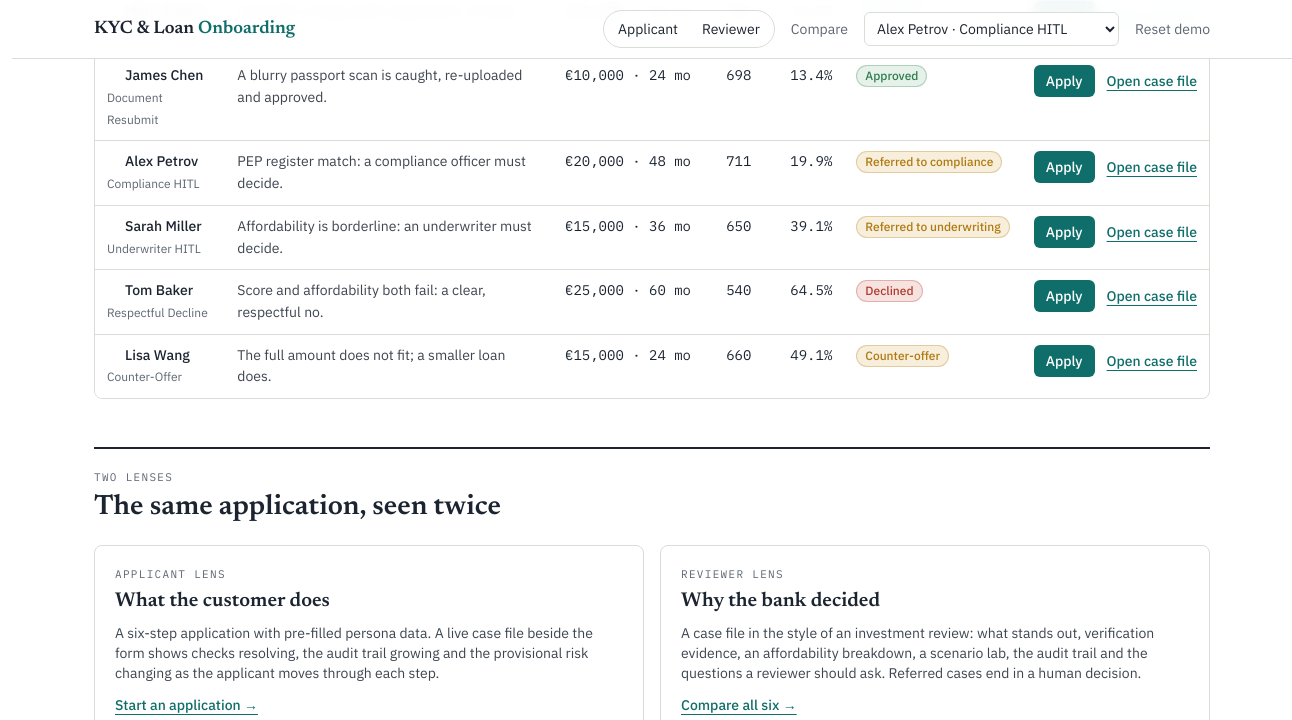
it: Home › "Apply as" sets the persona and starts the wizard
This screenshot has width=1292, height=720.
(page scrolled)
What coordinates should you click on to do the following:
click the button with aria-label "Apply as Lisa Wang"
I would click on:
 (1064, 361)
Its box is [1034, 345, 1095, 377].
(page scrolled)
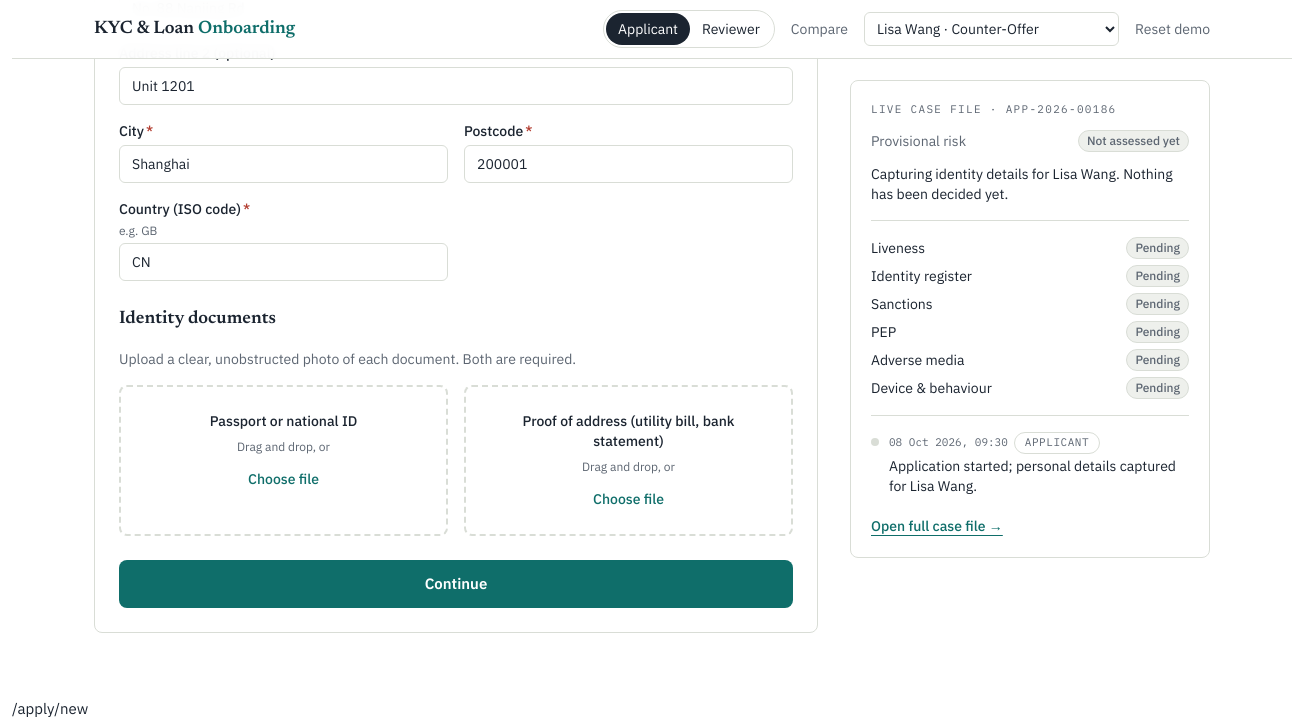
Expected: the text with test id "location" reads "/apply/new", [12, 699, 88, 718]
